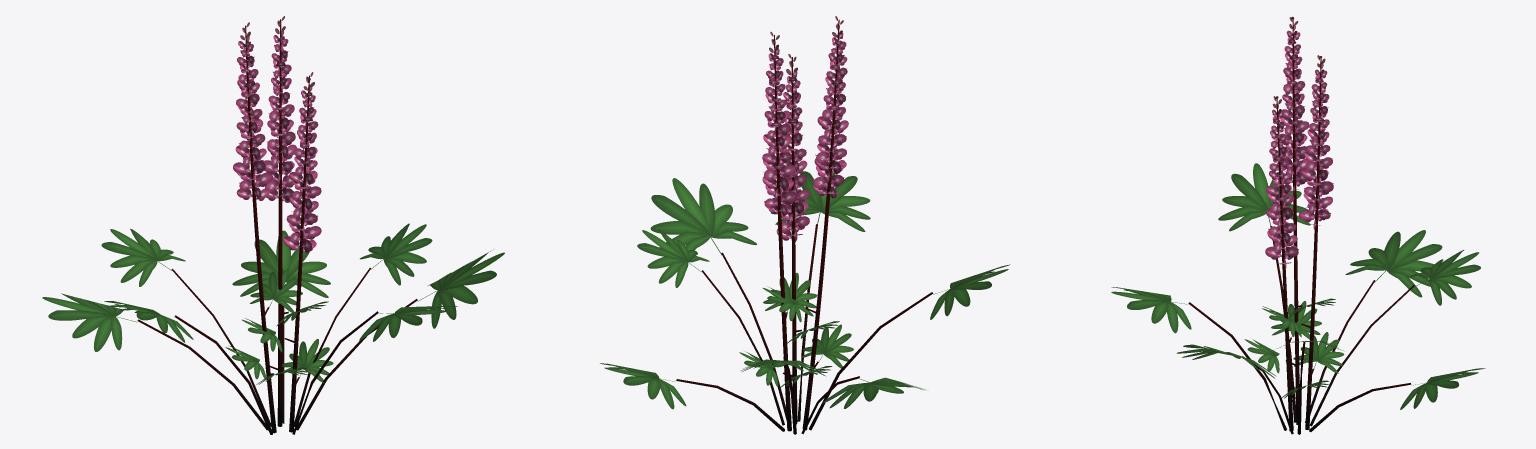
File: lupine_v03_LOD1.glb
3 renders of one model, left to right at view 1: azimuth 30°, elevation 25°; view 2: azimuth 150°, elevation 25°; view 3: azimuth 270°, elevation 25°, orthographic. The views are drawn at different scales.
Parts seen in each view (by area): view 1: lupine_v03_LOD1; view 2: lupine_v03_LOD1; view 3: lupine_v03_LOD1.
Boxes of the visible parts, left/top/right/bottom form: lupine_v03_LOD1: left=42, top=16, right=504, bottom=434; lupine_v03_LOD1: left=600, top=16, right=1010, bottom=434; lupine_v03_LOD1: left=1111, top=16, right=1485, bottom=434.
Size of the model in its own units: 1.05 by 0.9728 by 0.9949.
3 materials, 3 textured.
